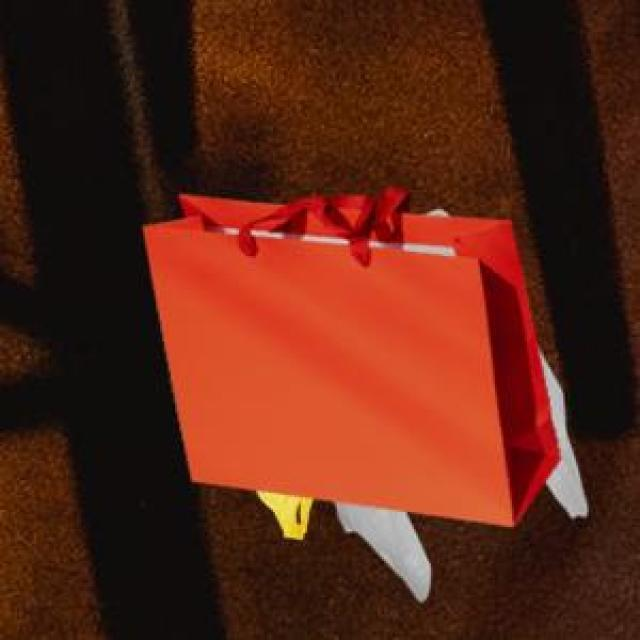paper: (139, 181, 555, 523)
